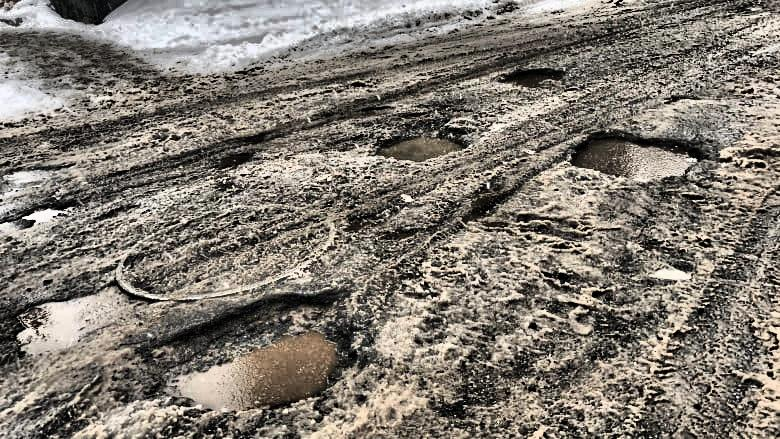pothole: (149, 289, 364, 423), (7, 288, 146, 359), (566, 127, 708, 186), (365, 131, 466, 165), (498, 66, 566, 92), (18, 202, 72, 226)
